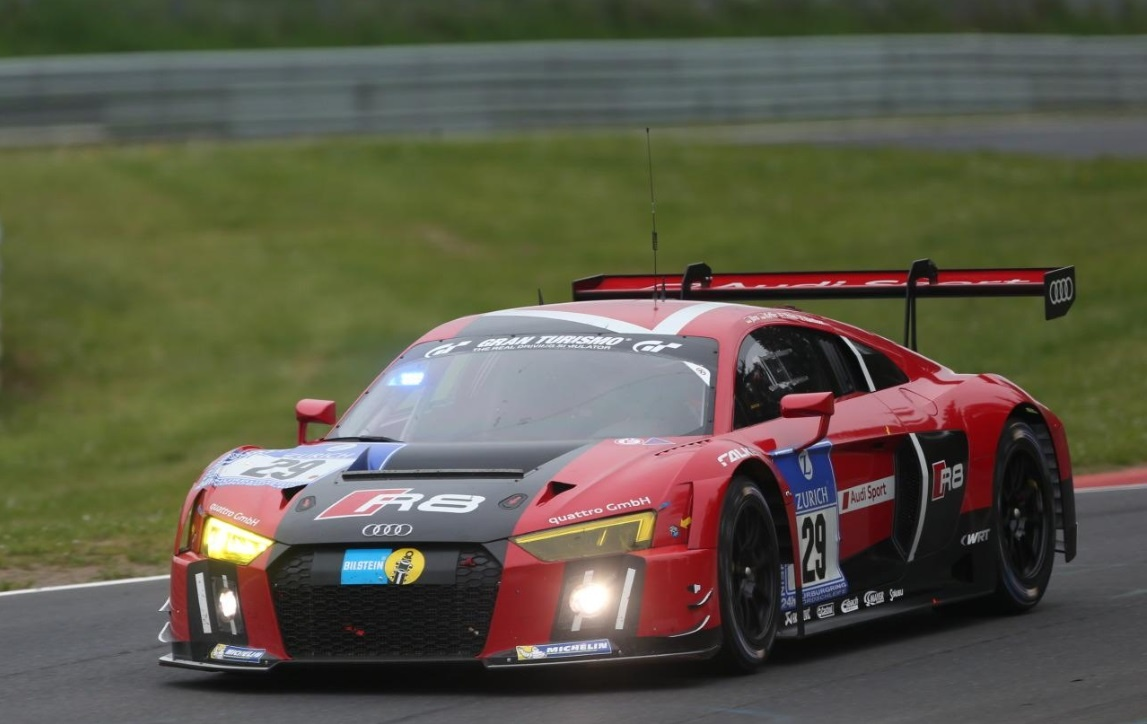racing car: (153, 241, 1082, 682)
